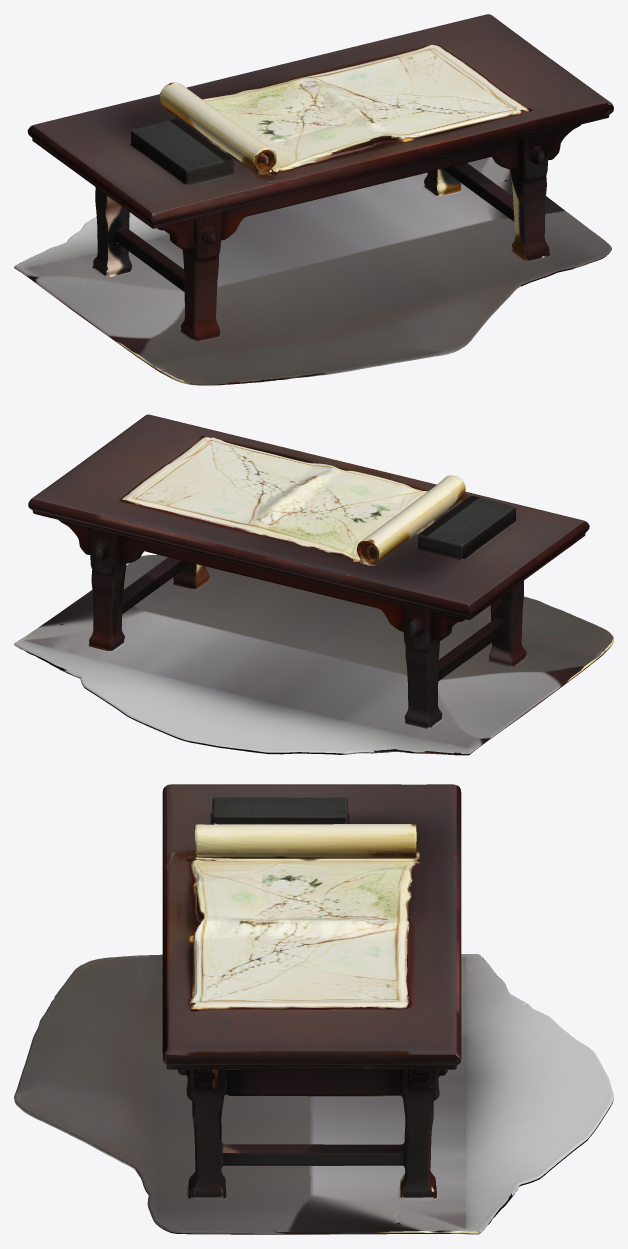
Rendered from traveler_env_coast_castle_council_table_00001_.glb.
3 views of the same model, one above another, from view 1: azimuth 30°, elevation 25°; view 2: azimuth 150°, elevation 25°; view 3: azimuth 270°, elevation 25° (orthographic). The views are drawn at different scales.
Parts seen in each view (by area): view 1: temp_mesh.ply; view 2: temp_mesh.ply; view 3: temp_mesh.ply.
Boxes of the visible parts, bbox=[...] form: temp_mesh.ply: bbox=[14, 14, 613, 385]; temp_mesh.ply: bbox=[14, 414, 613, 755]; temp_mesh.ply: bbox=[14, 784, 613, 1234].
Size of the model in its own units: 1.97 by 0.7256 by 1.8.
1 material, 1 textured.
